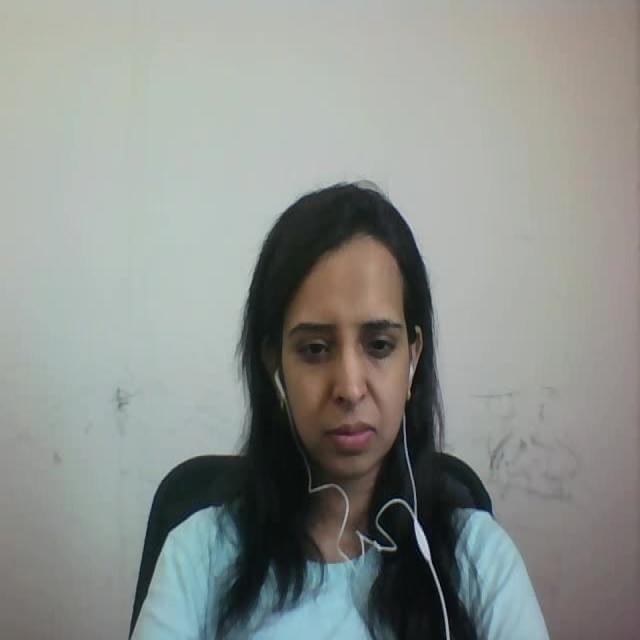Engaged: (225, 170, 460, 498)
